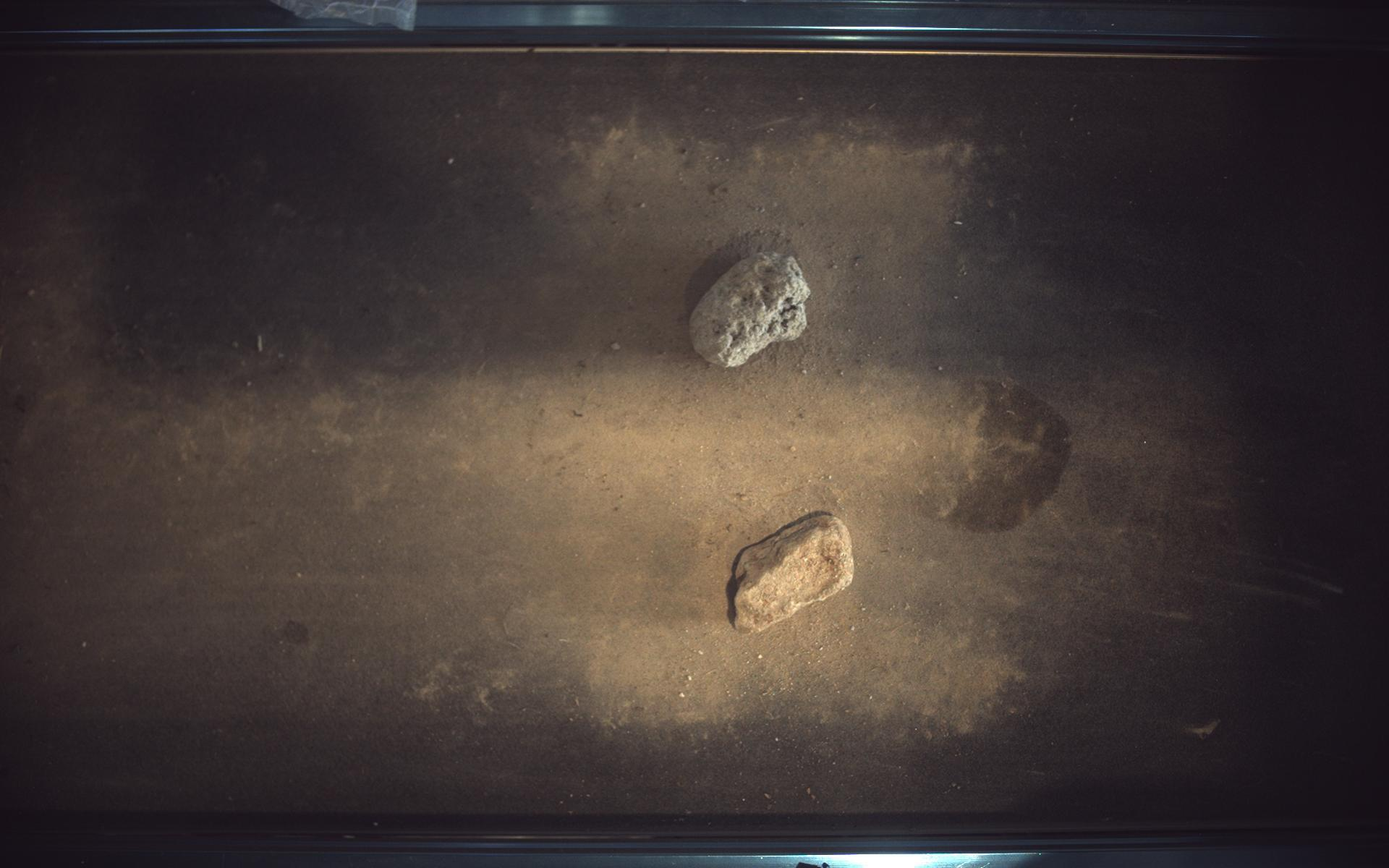stone: (735, 514, 856, 633), (691, 252, 812, 367)
